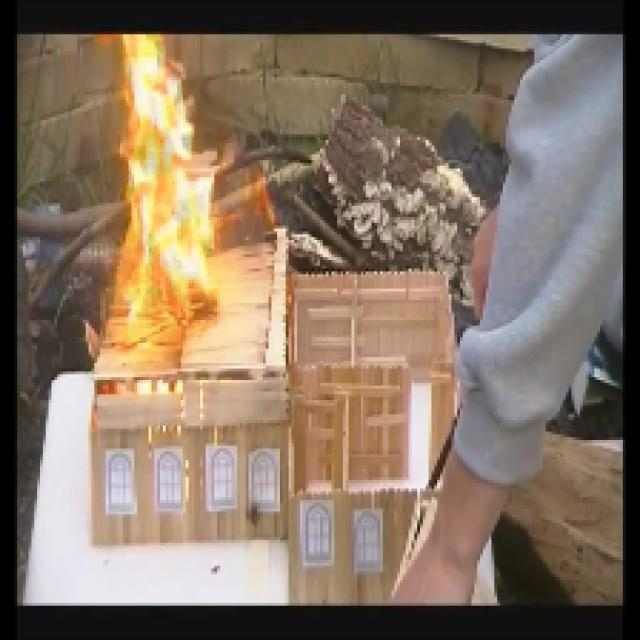Fire: (111, 33, 220, 343)
